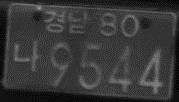0: (121, 14, 139, 37)
4: (108, 46, 133, 95), (140, 48, 165, 95)
5: (79, 44, 102, 90)
8: (98, 11, 119, 37)
9: (47, 41, 74, 90)
경남_O: (44, 9, 90, 35)
나: (12, 37, 41, 72)
